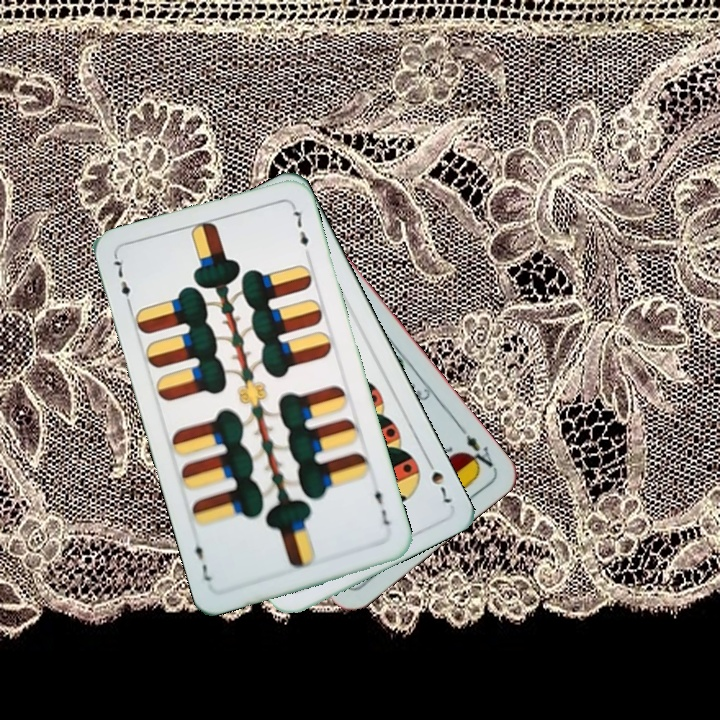E7: (109, 253, 135, 311), (370, 479, 393, 528)
EA: (454, 422, 496, 476)
S7: (421, 453, 454, 507)
